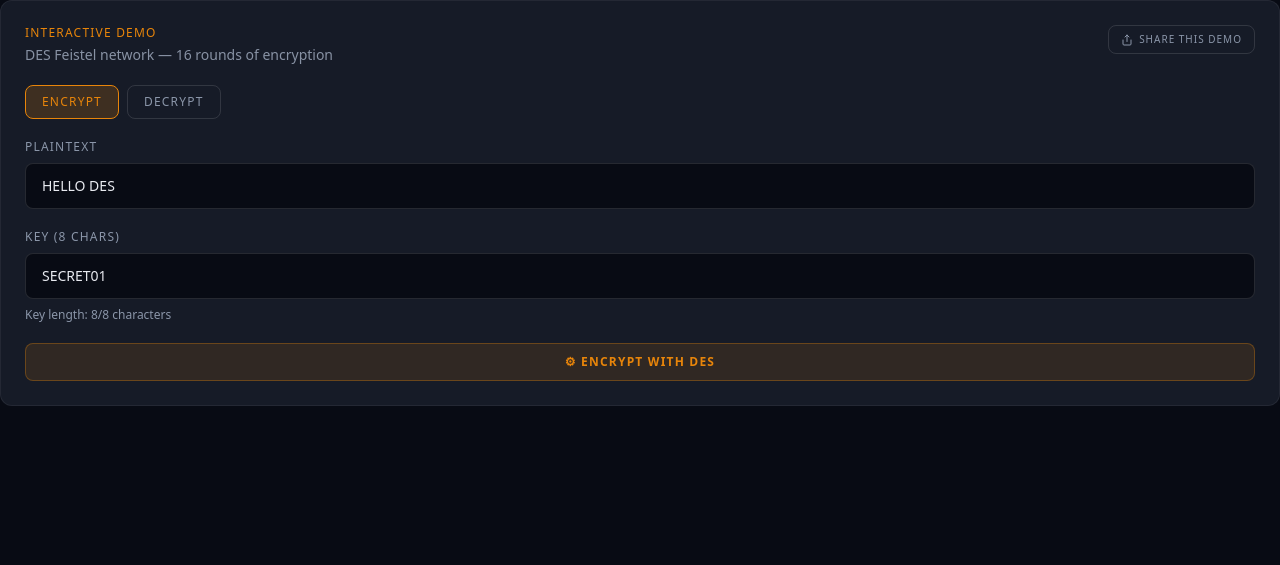
Test case: DESDemo › encrypts when run button is clicked
Click the button with test id "des-run-btn" at (640, 362), box [25, 343, 1255, 381]
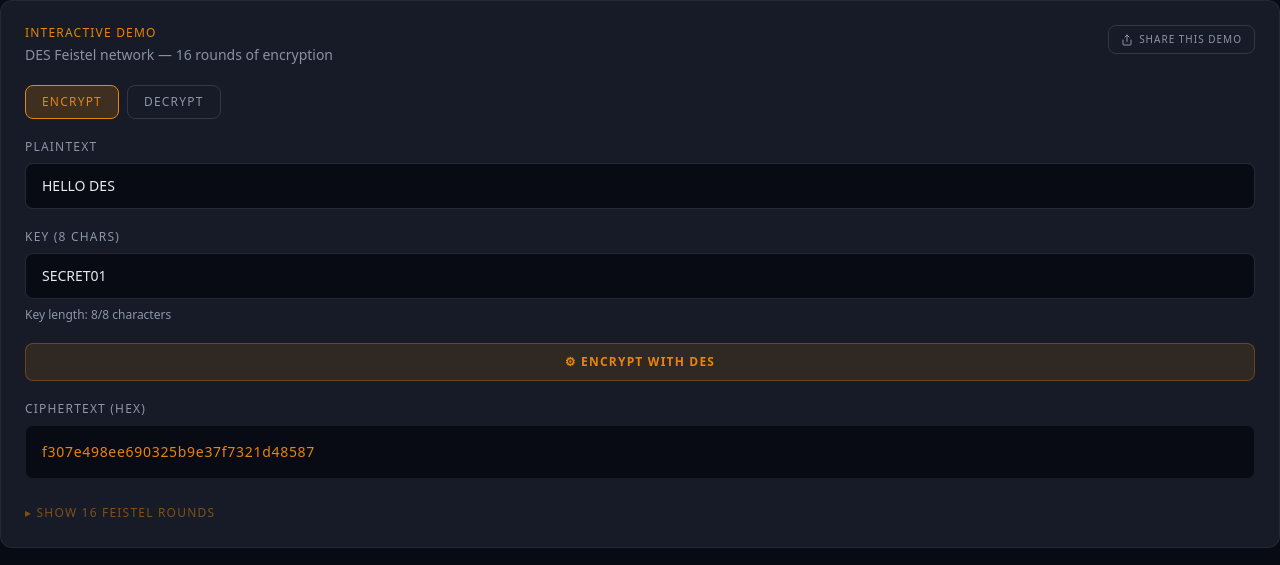
Result: the message "f307e498ee690325b9e37f7321d48587" is shown at [25, 425, 1255, 479]
